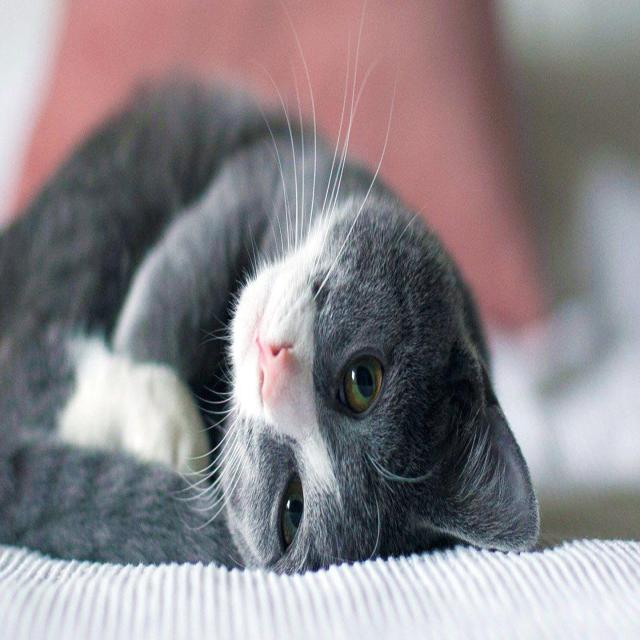Cat: (211, 169, 548, 582)
